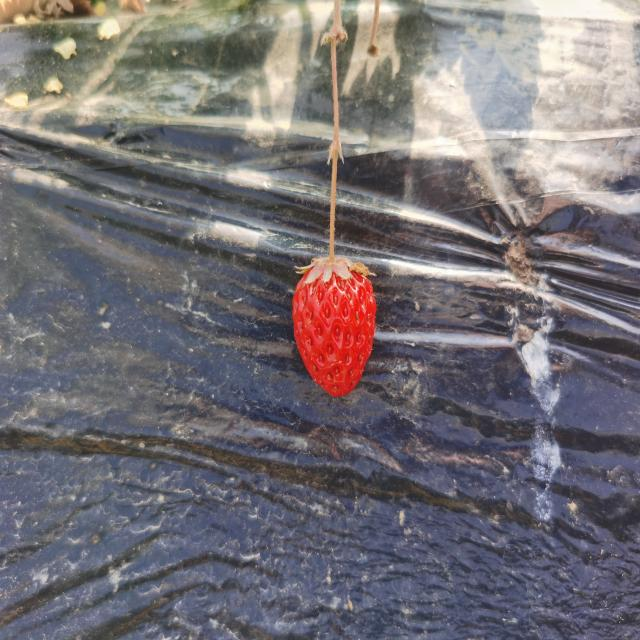stem: (329, 212, 335, 265)
strawberry: (292, 258, 377, 398)
